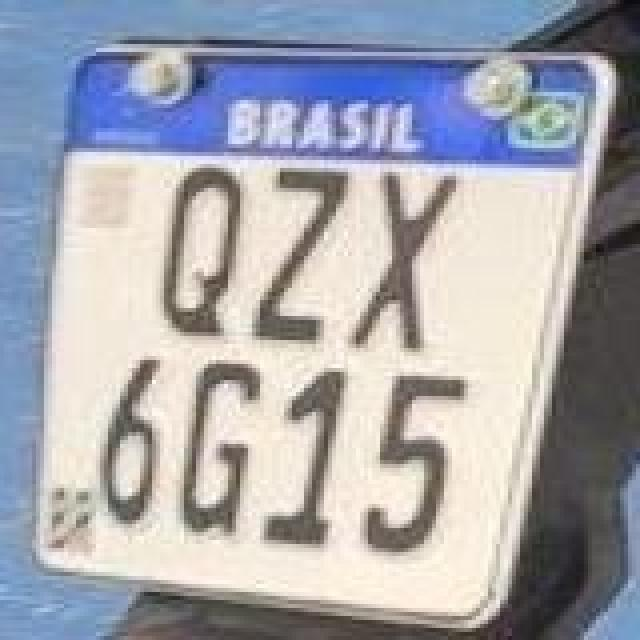1: (266, 370, 358, 550)
5: (358, 376, 474, 552)
6: (96, 354, 160, 526)
G: (174, 358, 266, 538)
Q: (154, 158, 246, 338)
X: (344, 166, 464, 354)
Z: (246, 164, 354, 348)
